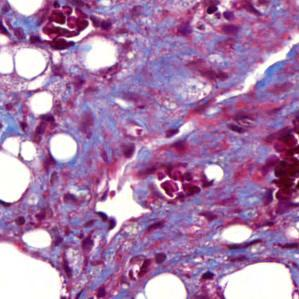steatosis: (13, 46, 48, 77), (50, 134, 77, 162), (28, 89, 56, 115)
